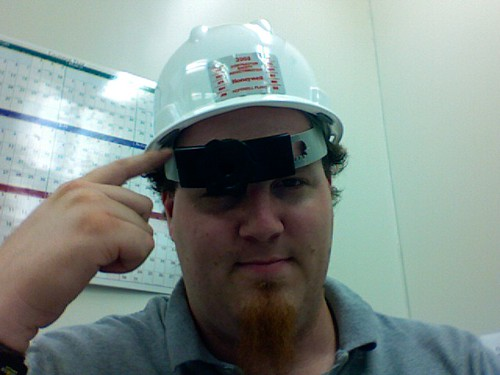person hardhat: (2, 21, 484, 375)
